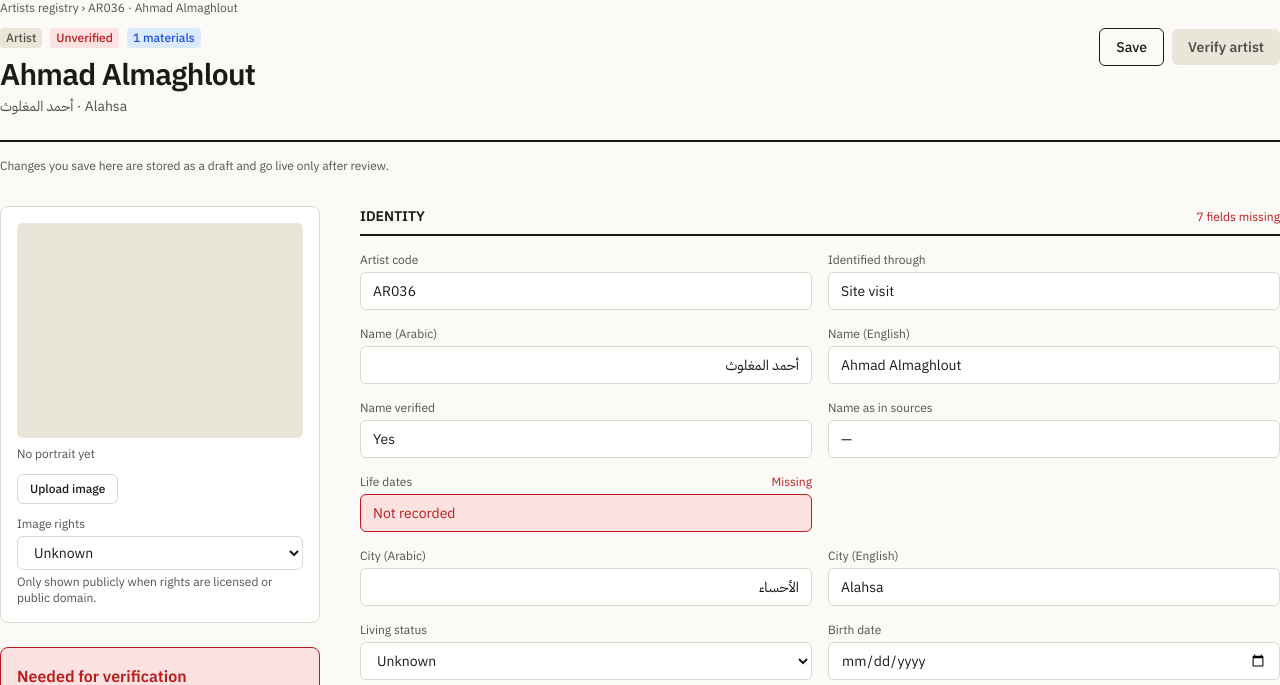
ArtistCurationPage › draft mode (proposals.submit) › saves every section through saveDraft instead of the direct endpoints
The image size is (1280, 685).
What coordinates should you click on to do the following:
click the button with test id "save-button"
I would click on:
 (1132, 47)
Its box is [1099, 28, 1164, 66].
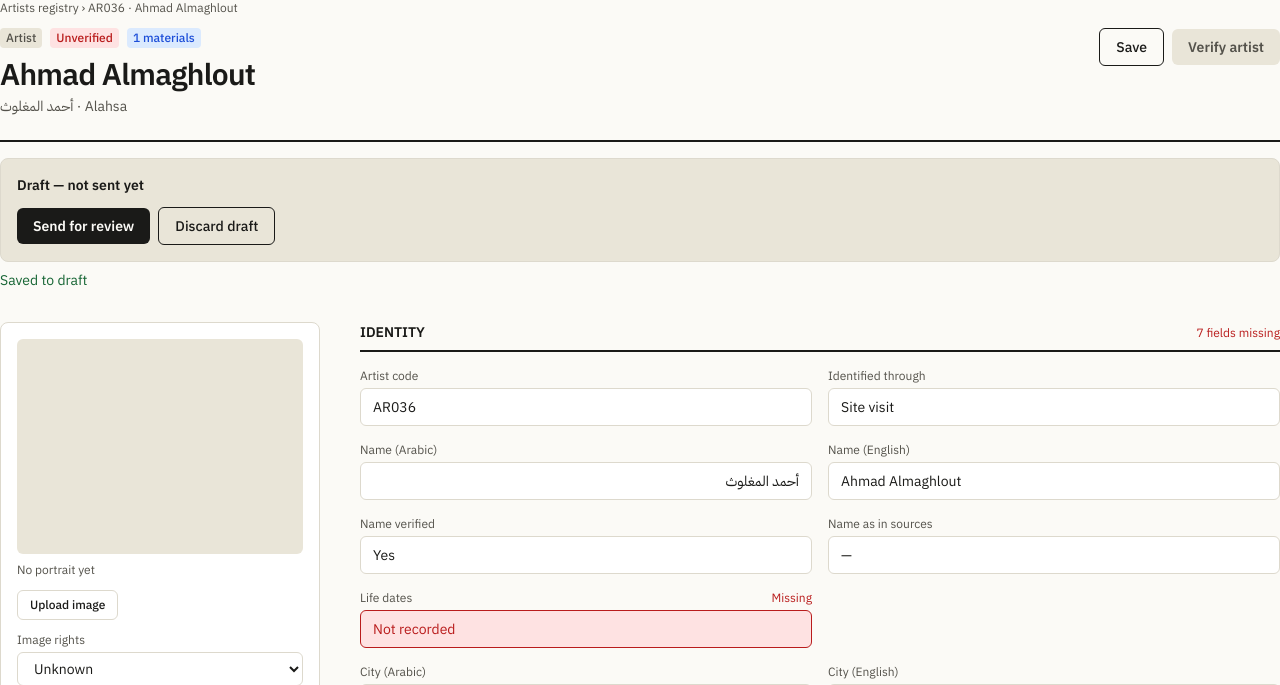
Check: the text with test id "saved-feedback" reads "Saved to draft", box [0, 271, 88, 289]
